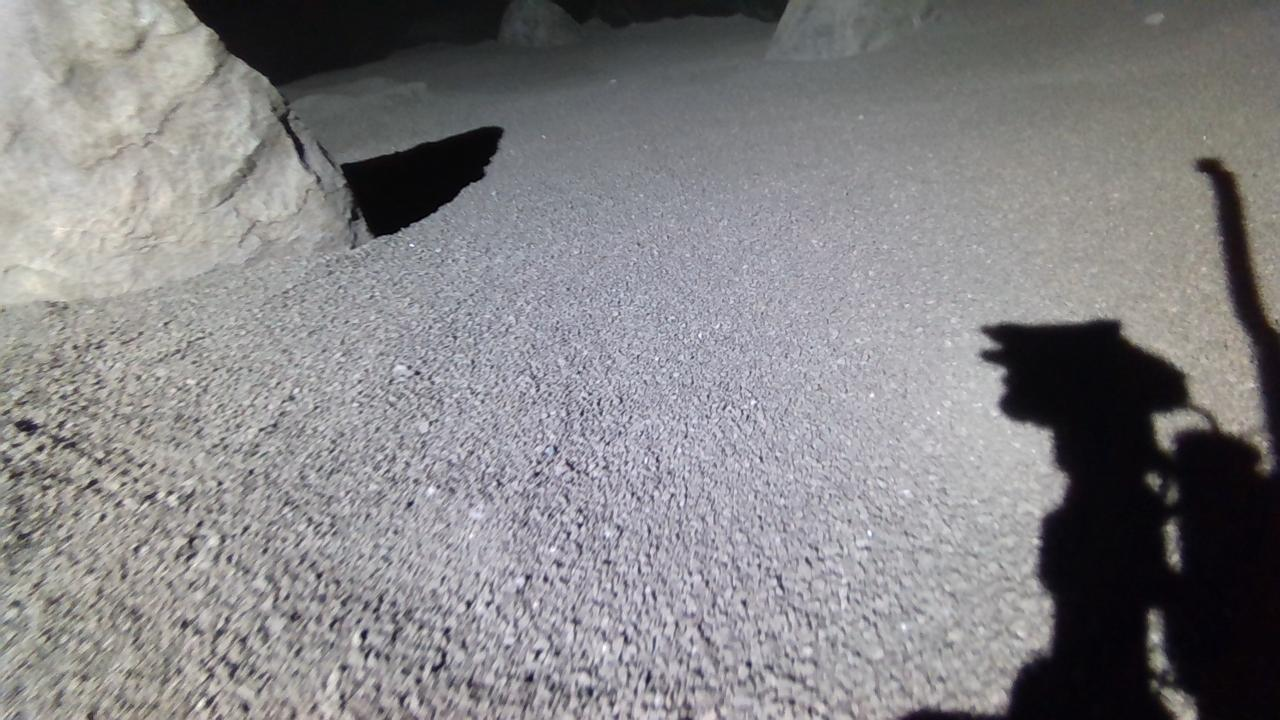rock: (0, 1, 368, 305), (767, 0, 935, 59), (498, 0, 582, 46)
